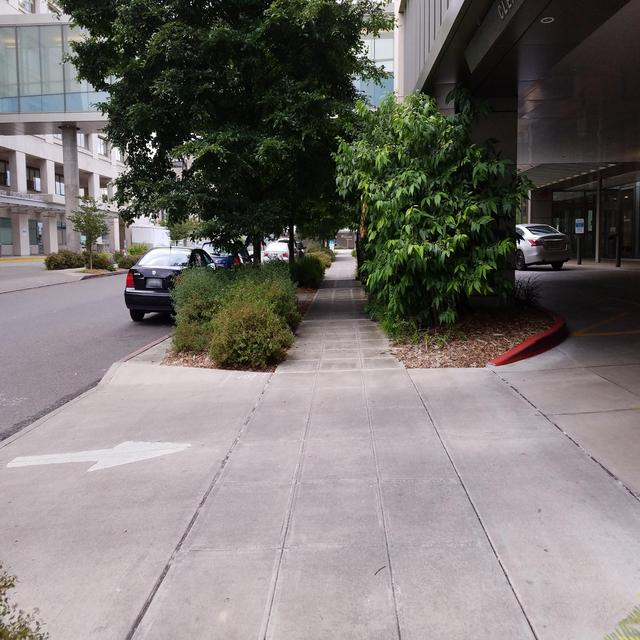Billboard: (575, 219, 583, 233), (329, 240, 333, 253)
Car: (124, 240, 253, 321), (515, 224, 571, 270)
Trash Can: (96, 243, 103, 252)
Vegetation: (44, 196, 148, 272), (603, 601, 639, 639)
